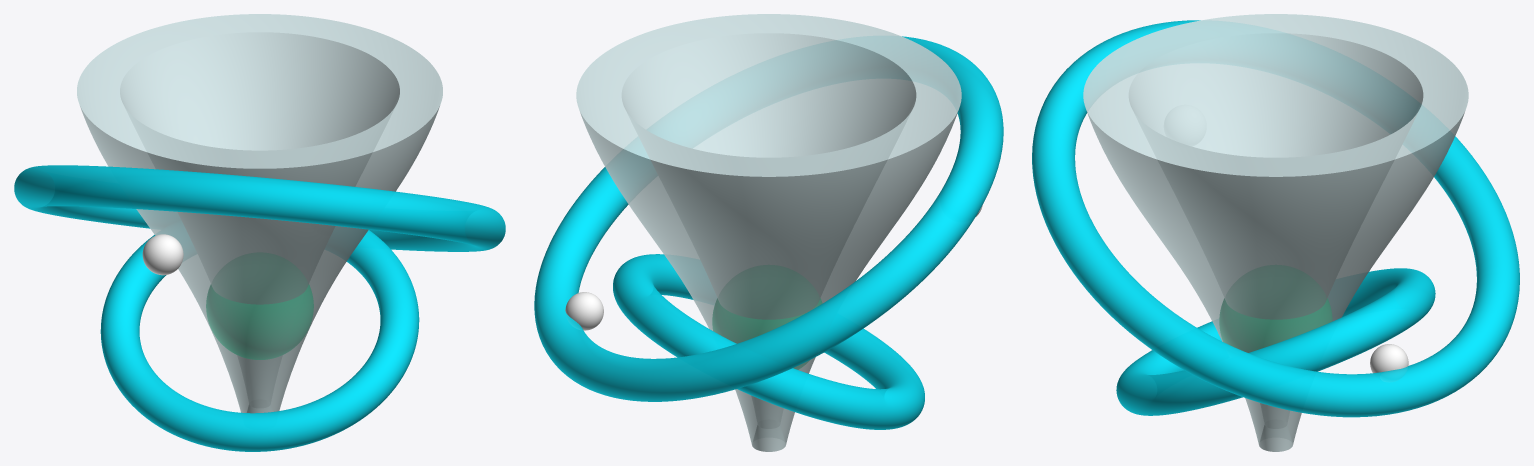
File: hava.glb
The picture shows the model from 3 angles, left to right: view 1: azimuth 30°, elevation 25°; view 2: azimuth 150°, elevation 25°; view 3: azimuth 270°, elevation 25°; orthographic projection. The views are drawn at different scales.
Size of the model in its own units: 0.0437 by 0.034 by 0.043.
